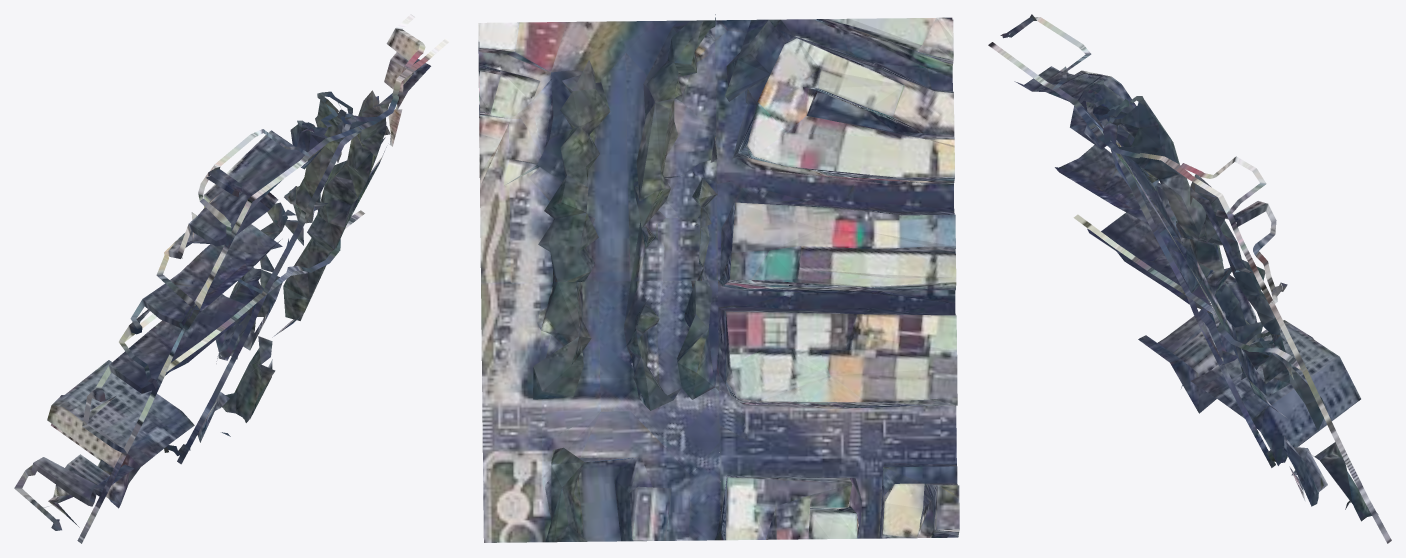
The picture shows the model from 3 angles, left to right: view 1: azimuth 30°, elevation 25°; view 2: azimuth 150°, elevation 25°; view 3: azimuth 270°, elevation 25°; orthographic projection. The views are drawn at different scales.
Bounding box in the file's own units: 164 × 148 × 130.
1 material, 1 textured.
